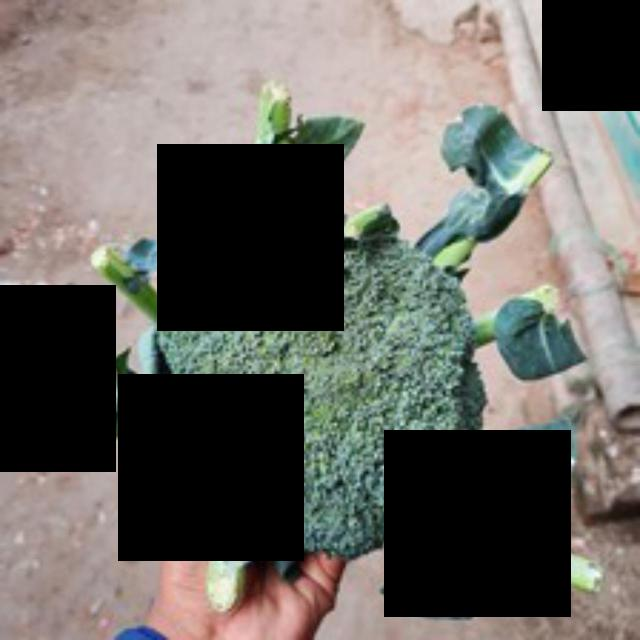broccoli: (160, 220, 499, 568)
